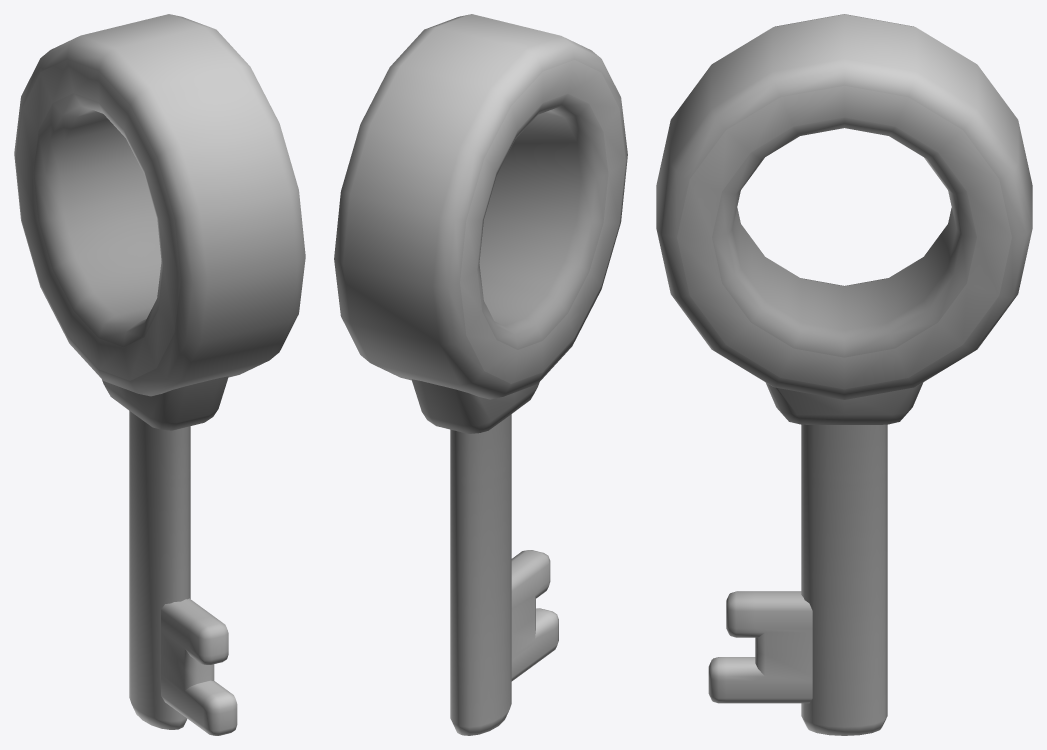
Rendered from Key_V1_00.fbx.
3 views of the same model, side by side, from view 1: azimuth 30°, elevation 25°; view 2: azimuth 150°, elevation 25°; view 3: azimuth 270°, elevation 25° (orthographic).
Visible parts, largest first — view 1: Key_V1_00; view 2: Key_V1_00; view 3: Key_V1_00.
Part boxes in pixels (x1,y1,x2,y2): Key_V1_00: [14, 14, 305, 735]; Key_V1_00: [334, 14, 627, 735]; Key_V1_00: [656, 14, 1032, 735].
Size of the model in its own units: 7.32 by 38.84 by 19.04.
